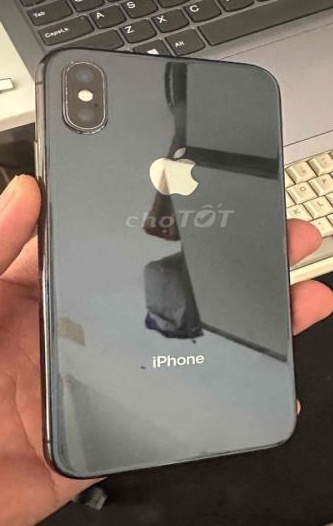scratch: (122, 357, 157, 386), (160, 89, 188, 116), (55, 51, 89, 72), (186, 187, 204, 204)
